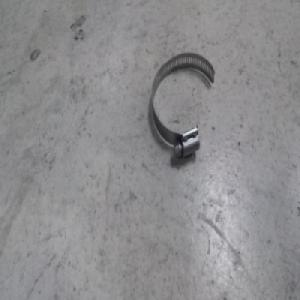AdjustableClamp: (150, 50, 219, 158)
